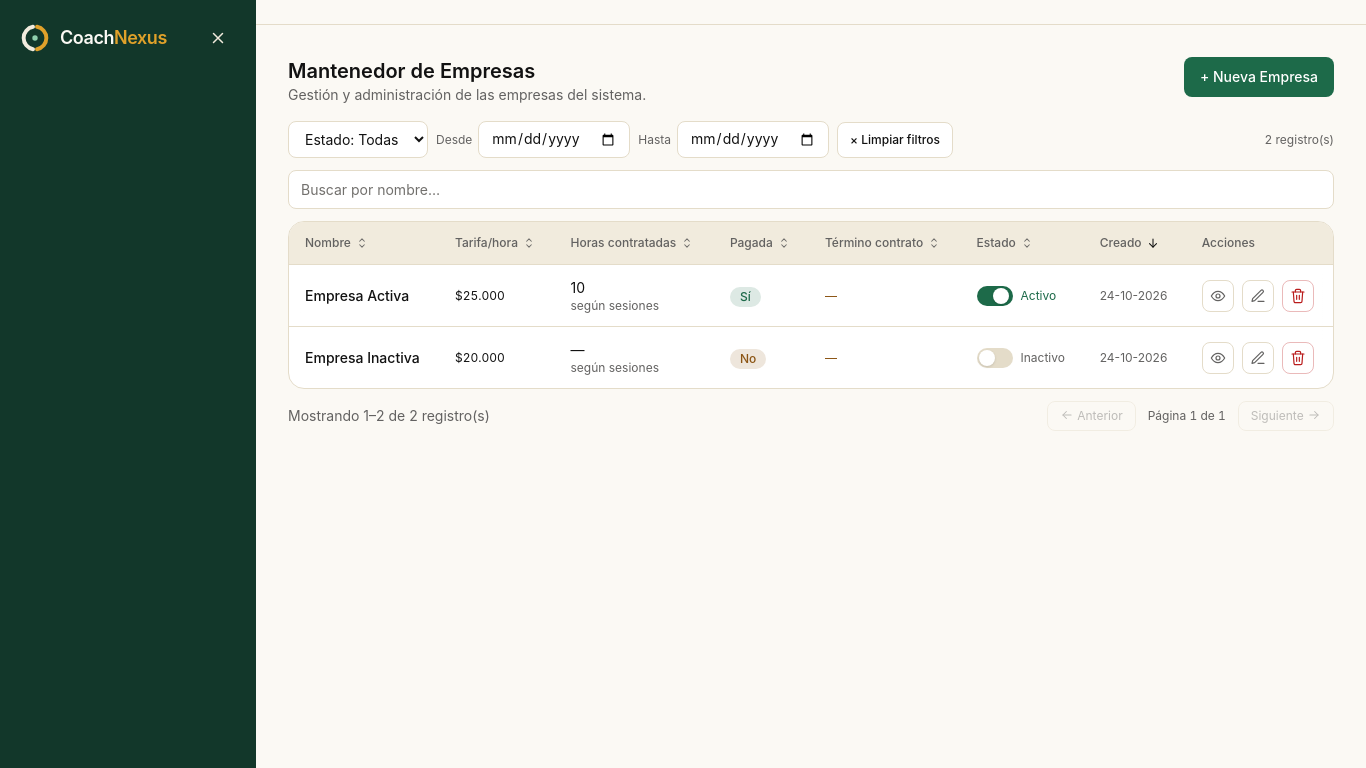
EmpresasView › opens the satisfacción modal with the kpis and encuestas de esa empresa
Click the button titled "Ver satisfacción" in the row of "Empresa Activa": x=1218, y=296 [1202, 280, 1234, 312]
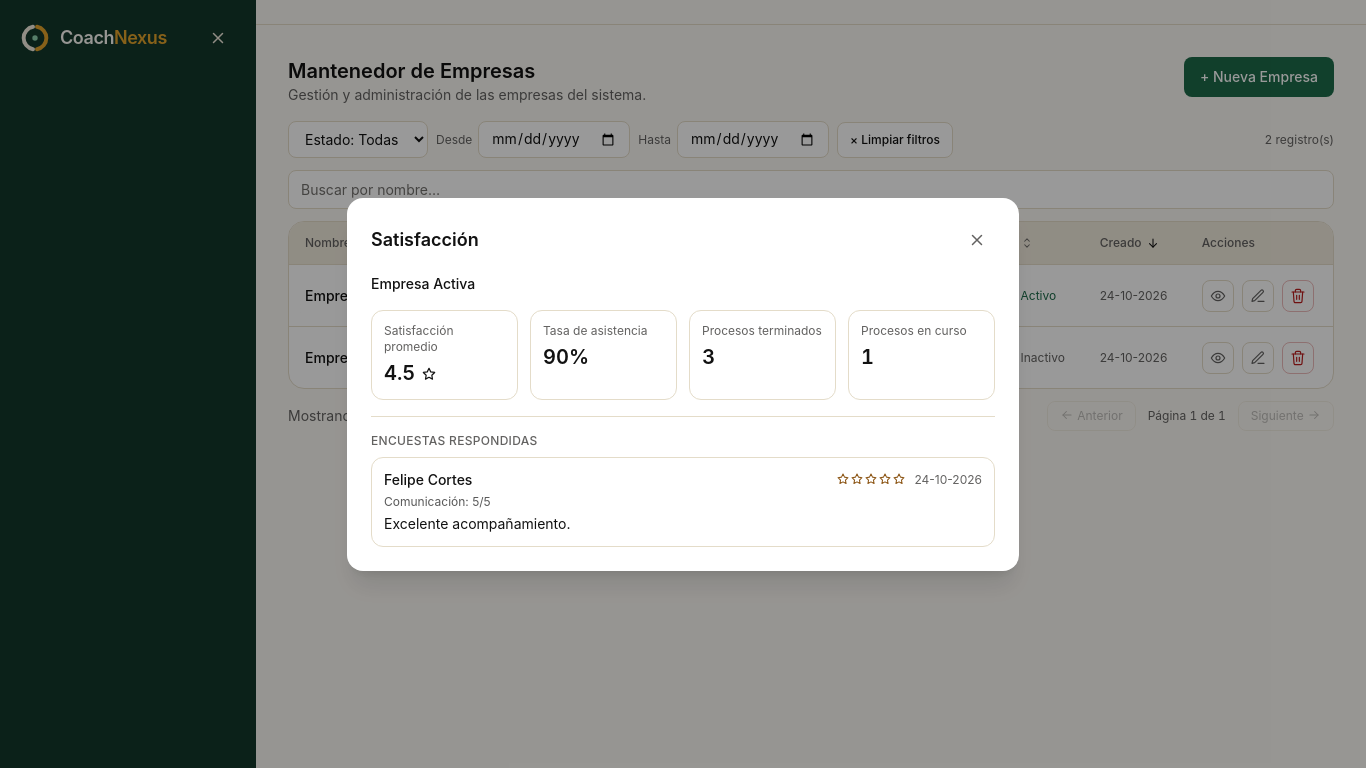
Now the text "4.5" is shown, box [384, 360, 437, 384]
Now the text "90%" is shown, box [543, 344, 589, 368]
Now the text "Felipe Cortes" is shown, box [384, 470, 472, 490]
